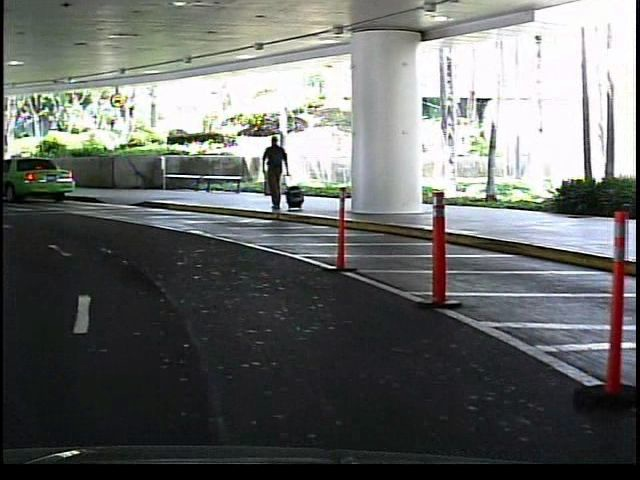person: (261, 130, 296, 216)
